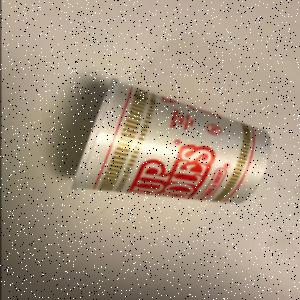Cup: (72, 78, 272, 206)
